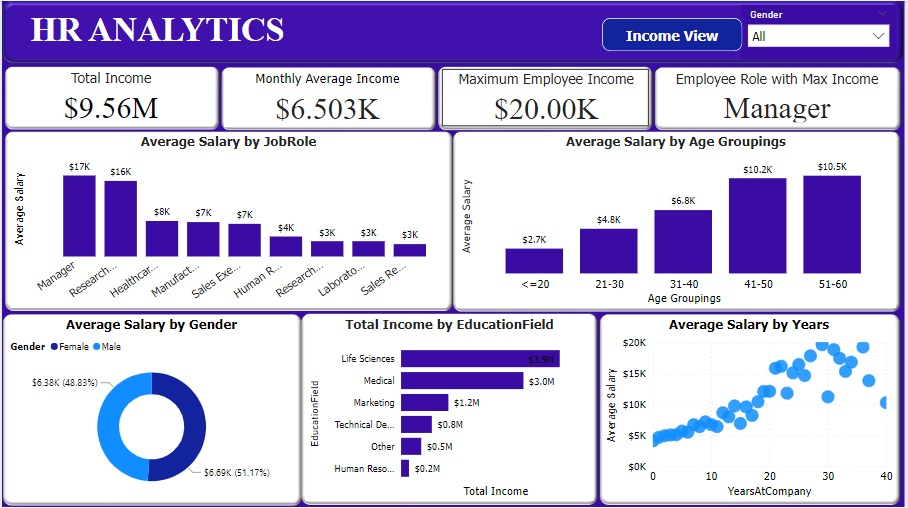

Layout of this report page (visuals, bound fields, positions):
{"tool":"powerbi","page":{"name":"Salary","canvas":[1280,720],"ordinal":1},"visuals":[{"type":"clusteredColumnChart","fields":{"Category":["hr data.JobRole"],"Y":["Calculations.Average Salary"]},"box":[11.3,187.1,619.4,248],"z":0},{"type":"clusteredColumnChart","fields":{"Category":["hr data.Age Groupings"],"Y":["Calculations.Average Salary"]},"box":[643.5,187.1,623.6,248],"z":1000},{"type":"donutChart","fields":{"Category":["hr data.Gender"],"Y":["Calculations.Average Salary"]},"box":[7.1,446.5,409.6,262.2],"z":2000},{"type":"scatterChart","title":"Average Salary by Years","fields":{"X":["hr data.YearsAtCompany"],"Y":["Calculations.Average Salary"]},"box":[850.4,446.5,416.7,262.2],"z":3000},{"type":"clusteredBarChart","fields":{"Y":["Calculations.Total Income"],"Category":["hr data.EducationField"]},"box":[429.4,446.5,409.6,262.2],"z":4000},{"type":"card","title":"Monthly Average Income","fields":{"Values":["Calculations.Average Salary"]},"box":[314.6,97.8,293.4,80.8],"z":5000},{"type":"card","title":"Total Income","fields":{"Values":["Calculations.Total Income"]},"box":[9.9,96.4,289.1,80.8],"z":6000},{"type":"card","title":"Maximum Employee Income","fields":{"Values":["Calculations.Max Salary"]},"box":[623.6,96.4,293.4,80.8],"z":7000},{"type":"card","title":"Employee Role with Max Income","fields":{"Values":["Calculations.Max Recipient"]},"box":[929.8,97.8,337.3,79.4],"z":8000},{"type":"slicer","fields":{"Values":["hr data.Gender"]},"box":[1047.4,5.7,219.7,76.5],"z":9000},{"type":"textbox","box":[11.3,7.1,418.1,75.1],"z":11000},{"type":"shape","box":[850,24.3,198.6,47.1],"z":11001}]}

Visuals, with their boxes in screenshot pixels (x1, y1, x2, y2), scaled from the page's 1280x720 canvas onto the 908x508 screenshot:
clusteredColumnChart - hr data.JobRole x Calculations.Average Salary: [8,132,447,307]
clusteredColumnChart - hr data.Age Groupings x Calculations.Average Salary: [456,132,899,307]
donutChart - hr data.Gender x Calculations.Average Salary: [5,315,296,500]
"Average Salary by Years" scatterChart: [603,315,899,500]
clusteredBarChart - Calculations.Total Income x hr data.EducationField: [305,315,595,500]
"Monthly Average Income" card: [223,69,431,126]
"Total Income" card: [7,68,212,125]
"Maximum Employee Income" card: [442,68,650,125]
"Employee Role with Max Income" card: [660,69,899,125]
slicer - hr data.Gender: [743,4,899,58]
textbox: [8,5,305,58]
shape: [603,17,744,50]
